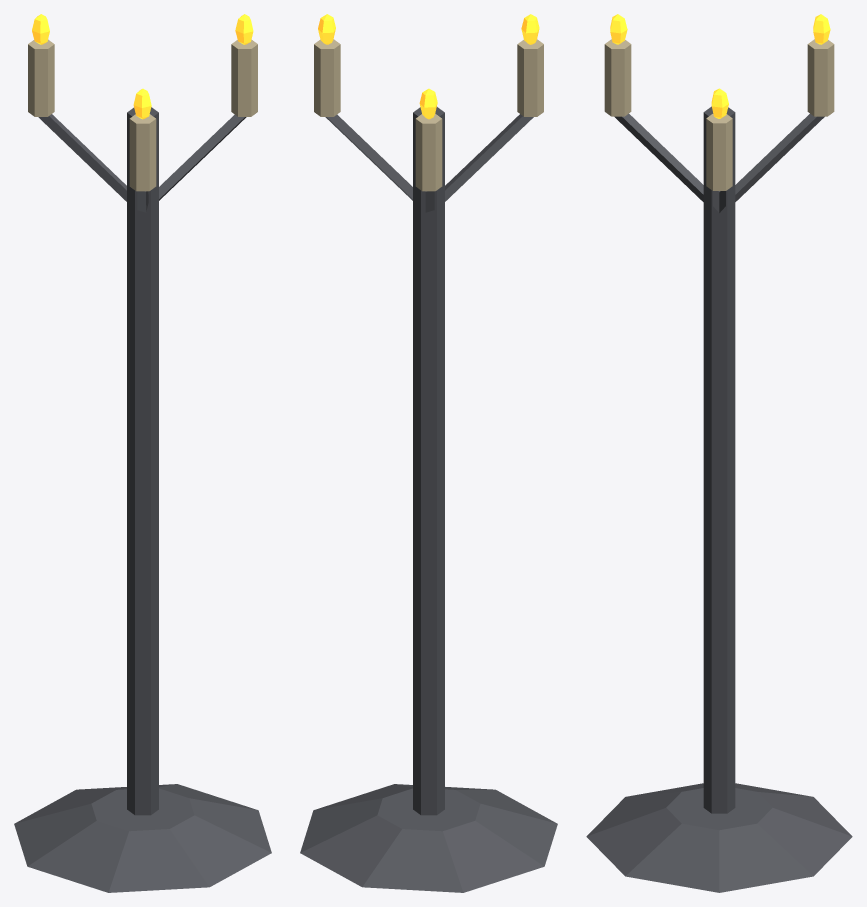
The model's file is candelabra.glb.
The picture shows the model from 3 angles, left to right: view 1: azimuth 30°, elevation 25°; view 2: azimuth 150°, elevation 25°; view 3: azimuth 270°, elevation 25°; orthographic projection.
Parts seen in each view (by area): view 1: candelabra; view 2: candelabra; view 3: candelabra.
Part boxes in pixels (x1=…): candelabra: x1=14, y1=14, x2=271, y2=892; candelabra: x1=300, y1=14, x2=557, y2=892; candelabra: x1=586, y1=14, x2=852, y2=892.
Size of the model in its own units: 0.5 by 1.65 by 0.5.
